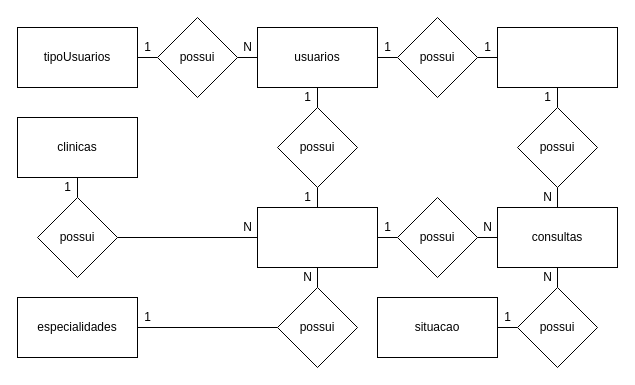
The diagram is 635 pixels wide and 385 high, and some of its shapes have lost their labels. The shapes that lost their labels are listed below. From the top down, each one's centre as x and y in pixels, then its label:
At pixel 557 57: "prontuarios".
At pixel 317 237: "medicos".
